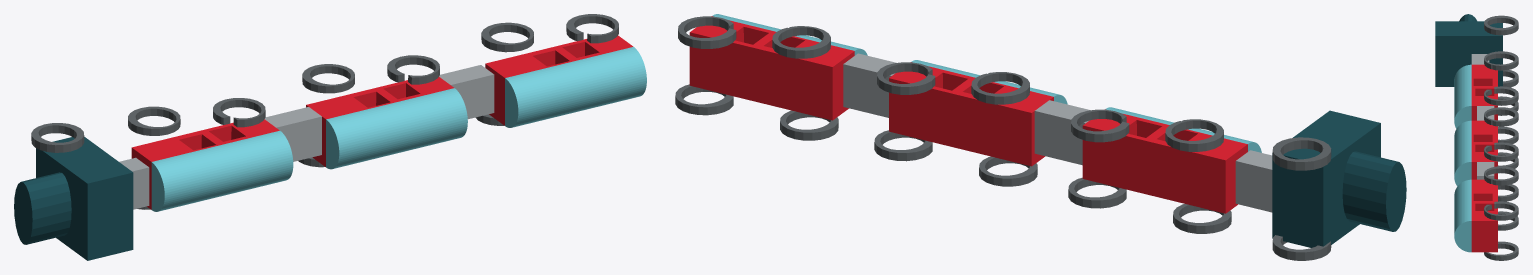
The model's file is tinker.obj.
3 views of the same model, side by side, from view 1: azimuth 30°, elevation 25°; view 2: azimuth 150°, elevation 25°; view 3: azimuth 270°, elevation 25° (orthographic). The views are drawn at different scales.
Visible parts, largest first — view 1: group_0_7720667, group_0_1855578, group_0_15277357, group_0_6383466, group_0_10988977; view 2: group_0_15277357, group_0_6383466, group_0_1855578, group_0_10988977, group_0_7720667; view 3: group_0_6383466, group_0_15277357, group_0_7720667, group_0_1855578, group_0_10988977.
Part boxes in pixels (x1,y1,x2,y2): group_0_7720667: (151,47,646,211); group_0_1855578: (14,137,133,260); group_0_15277357: (131,35,633,209); group_0_6383466: (31,14,618,209); group_0_10988977: (119,65,494,209); group_0_15277357: (689,16,1247,213); group_0_6383466: (675,16,1331,260); group_0_1855578: (1272,110,1406,247); group_0_10988977: (843,53,1272,212); group_0_7720667: (712,14,1261,152); group_0_6383466: (1484,15,1518,260); group_0_15277357: (1471,64,1497,252); group_0_7720667: (1454,64,1471,252); group_0_1855578: (1435,14,1502,86); group_0_10988977: (1471,54,1494,179).
Size of the model in its own units: 270 by 37 by 48.
